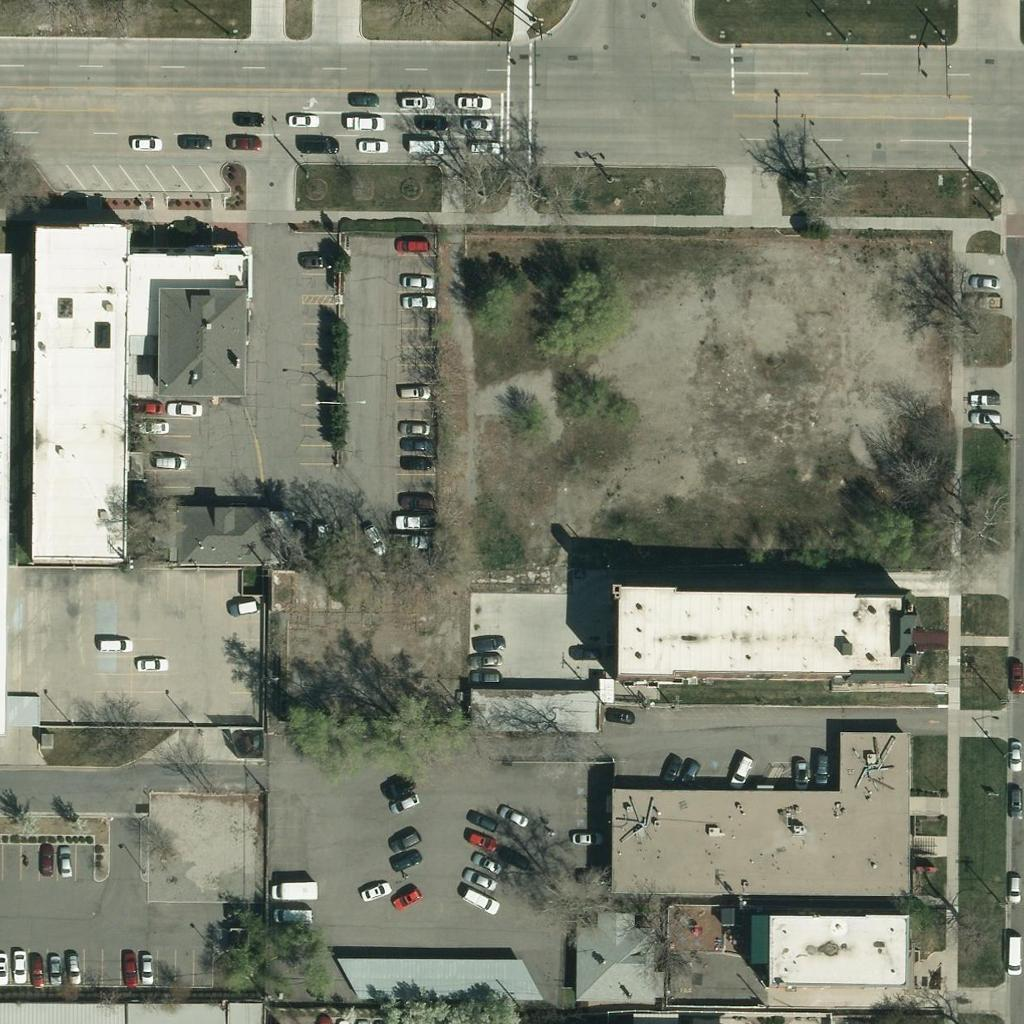car: (344, 80, 378, 114), (395, 83, 429, 117), (452, 84, 486, 118), (231, 102, 265, 136), (285, 102, 319, 136), (349, 103, 383, 137), (458, 104, 492, 138), (459, 104, 493, 138), (411, 105, 445, 139), (176, 124, 210, 158), (128, 126, 162, 160), (223, 127, 257, 161), (354, 127, 388, 161), (303, 128, 337, 162), (463, 130, 497, 164), (410, 132, 444, 166), (394, 228, 428, 262), (300, 242, 334, 276), (967, 264, 1001, 298), (398, 265, 432, 299), (400, 282, 434, 316), (966, 284, 1000, 318), (395, 372, 429, 406), (965, 381, 999, 415), (130, 390, 164, 424), (165, 391, 199, 425), (969, 400, 1003, 434), (138, 407, 172, 441), (398, 411, 432, 445), (401, 426, 435, 460), (149, 444, 183, 478), (397, 444, 431, 478), (401, 483, 435, 517), (356, 522, 390, 556), (393, 524, 427, 558), (225, 589, 259, 623), (469, 625, 503, 659), (91, 626, 125, 660), (567, 636, 601, 670), (469, 641, 503, 675), (134, 647, 168, 681), (468, 658, 502, 692), (601, 698, 635, 732), (655, 751, 689, 785), (726, 751, 760, 785), (673, 753, 707, 787), (802, 753, 836, 787), (784, 758, 818, 792), (385, 768, 419, 802), (385, 785, 419, 819), (497, 798, 531, 832), (465, 803, 499, 837), (568, 818, 602, 852), (390, 822, 424, 856), (460, 822, 494, 856), (461, 825, 495, 859), (494, 840, 528, 874), (495, 840, 529, 874), (387, 843, 421, 877), (28, 845, 62, 879), (47, 845, 81, 879), (472, 847, 506, 881), (575, 858, 609, 892), (462, 863, 496, 897), (357, 872, 391, 906), (358, 873, 392, 907), (391, 880, 425, 914), (463, 882, 497, 916), (272, 897, 306, 931), (55, 948, 89, 982), (113, 949, 147, 983), (128, 949, 162, 983), (17, 950, 51, 984), (36, 950, 70, 984), (0, 949, 33, 983), (997, 738, 1024, 772), (997, 783, 1024, 817), (997, 871, 1024, 905), (997, 940, 1024, 974), (999, 654, 1024, 688), (0, 950, 16, 984)
